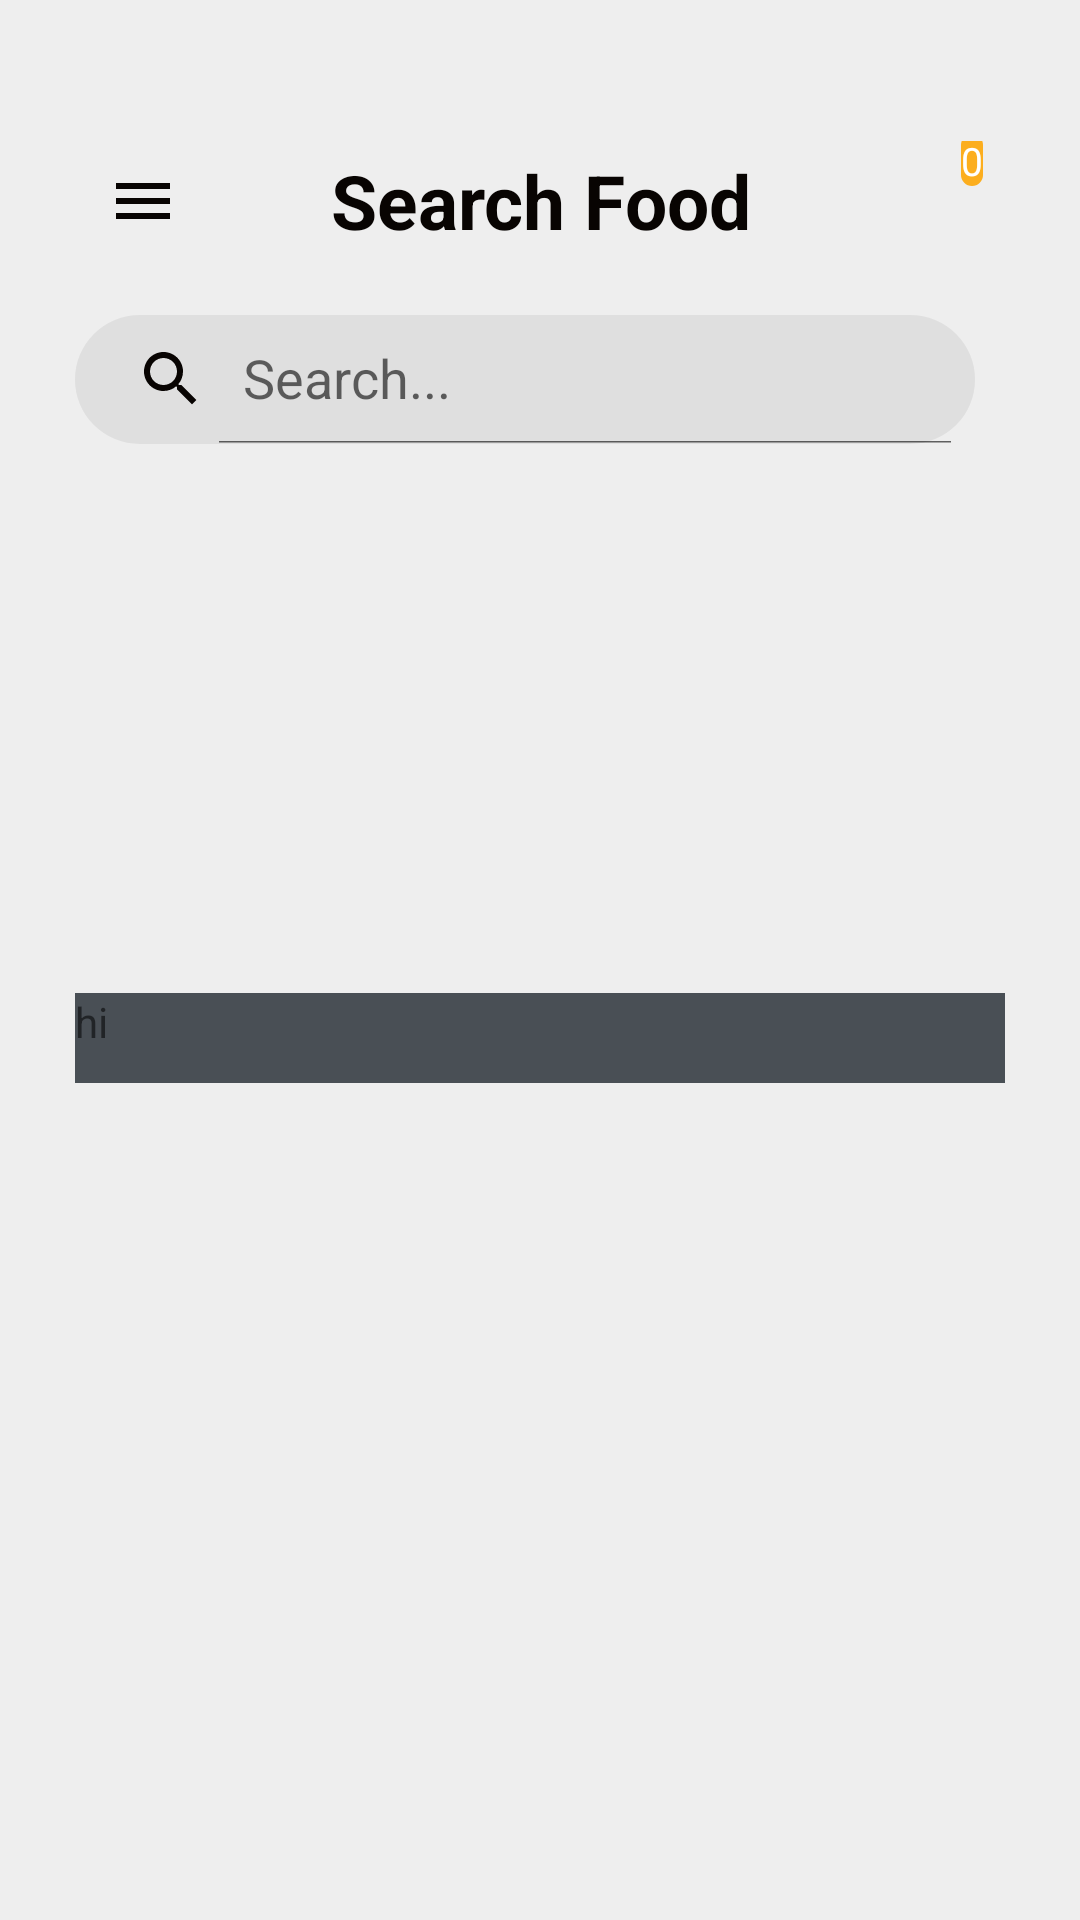

Named icons in this screenshot (1080 × 1920) and their bounding boxes, {"left": x1, "top": y1, "right": x2, "bottom": y2}:
menu: {"left": 116, "top": 183, "right": 170, "bottom": 219}
